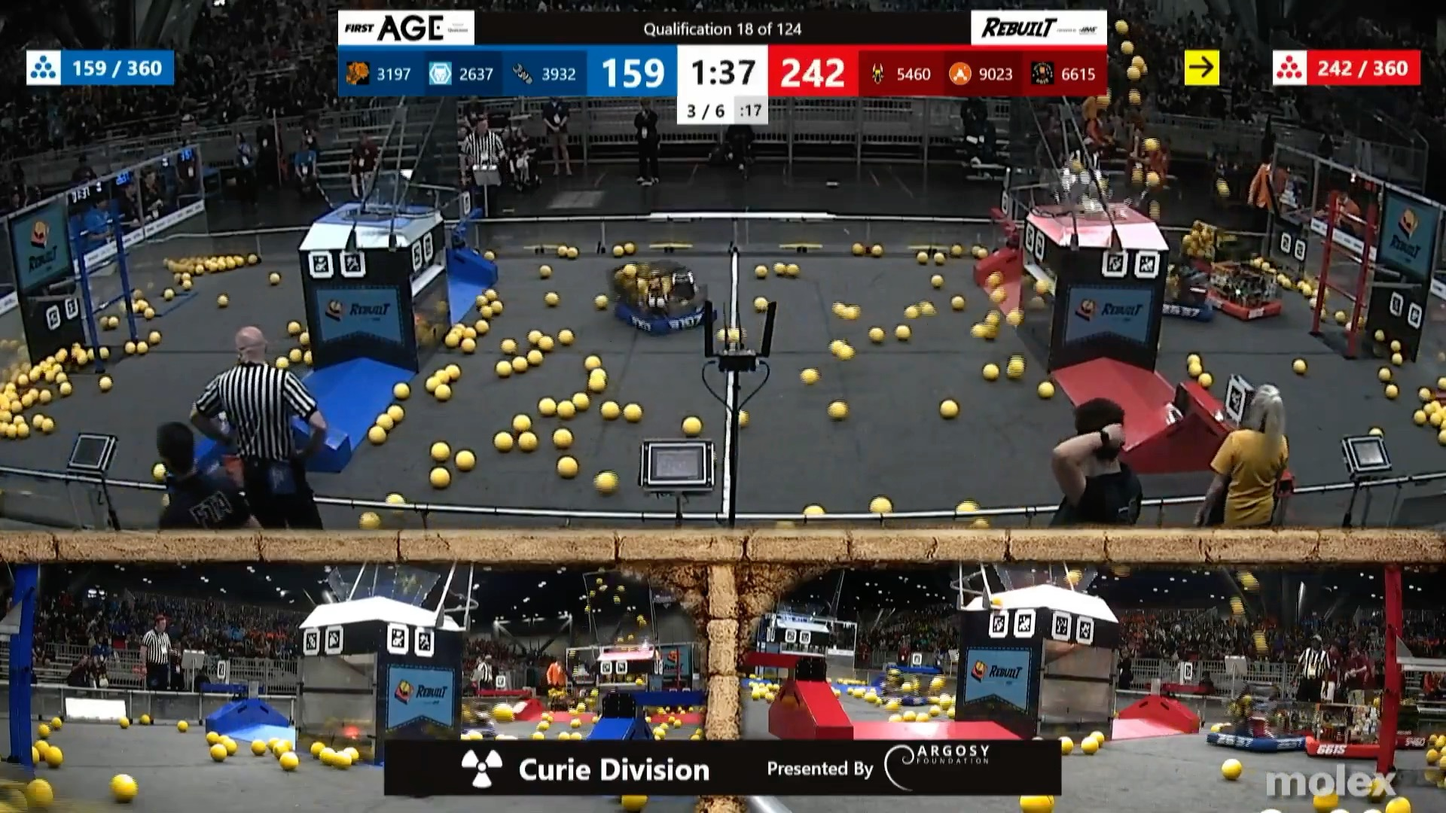bumpers: (1183, 282, 1292, 327), (608, 297, 723, 337), (1295, 719, 1396, 764), (1208, 726, 1316, 760), (1153, 287, 1223, 322)
